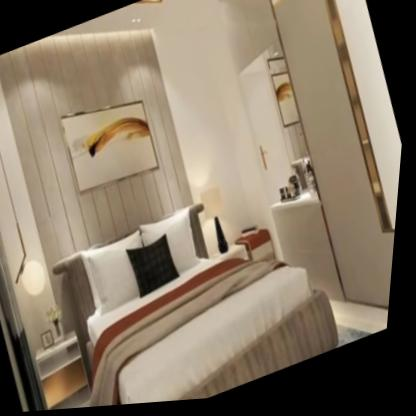Bed: (51, 159, 360, 411)
Frame: (51, 77, 171, 206)
Lamp: (0, 54, 72, 310)
Nightstand: (32, 326, 112, 413)
